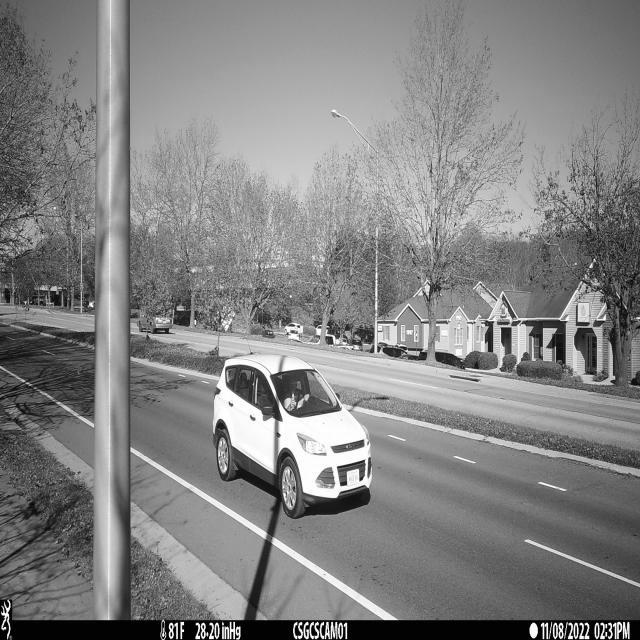SUV: (212, 354, 374, 520)
